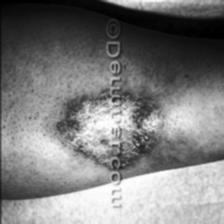Unclassified: (48, 94, 105, 182), (126, 94, 164, 174)
